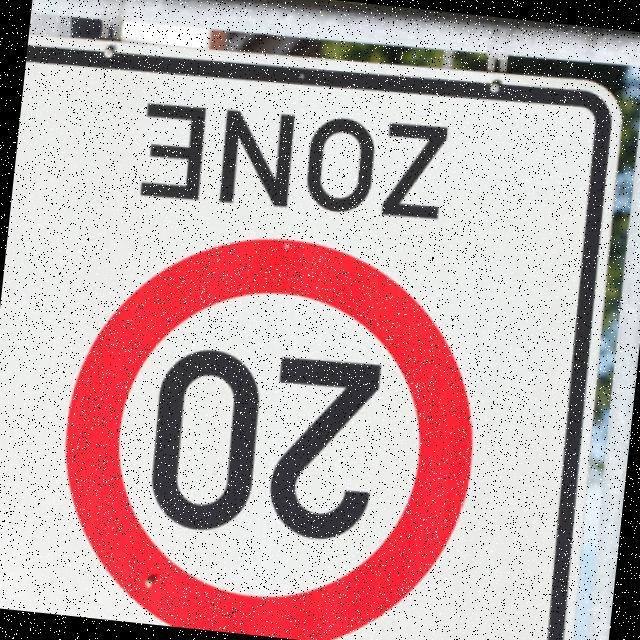speed_limit_20: (42, 215, 495, 640)
